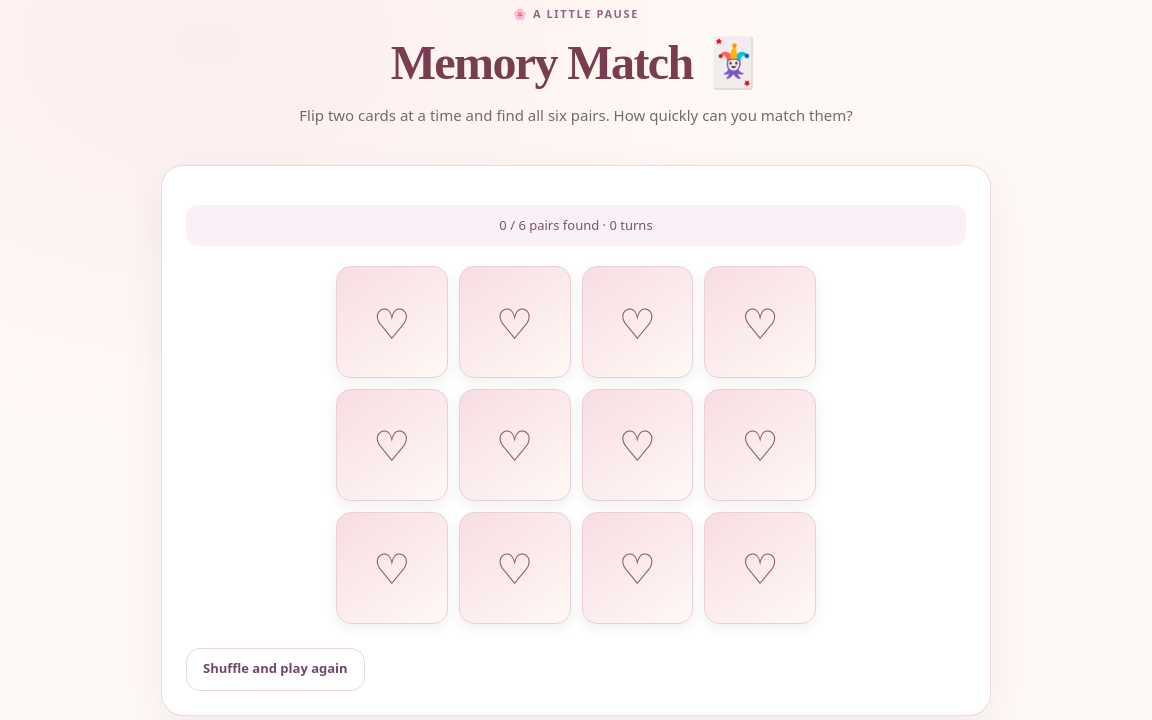
Test: the new games › counts attempts in the memory matching game
Click the cell named "Card 1: face down".
click(392, 322)  # box [336,266,448,378]
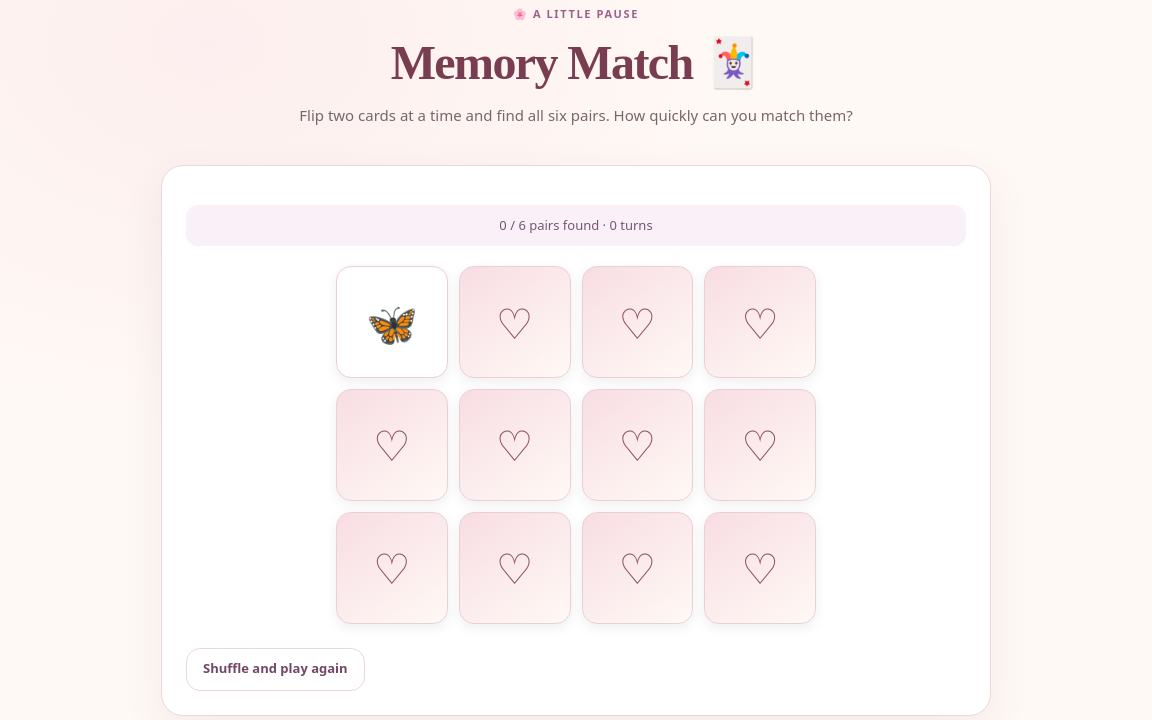
Click the cell named "Card 2: face down".
click(515, 322)  # box [459,266,571,378]
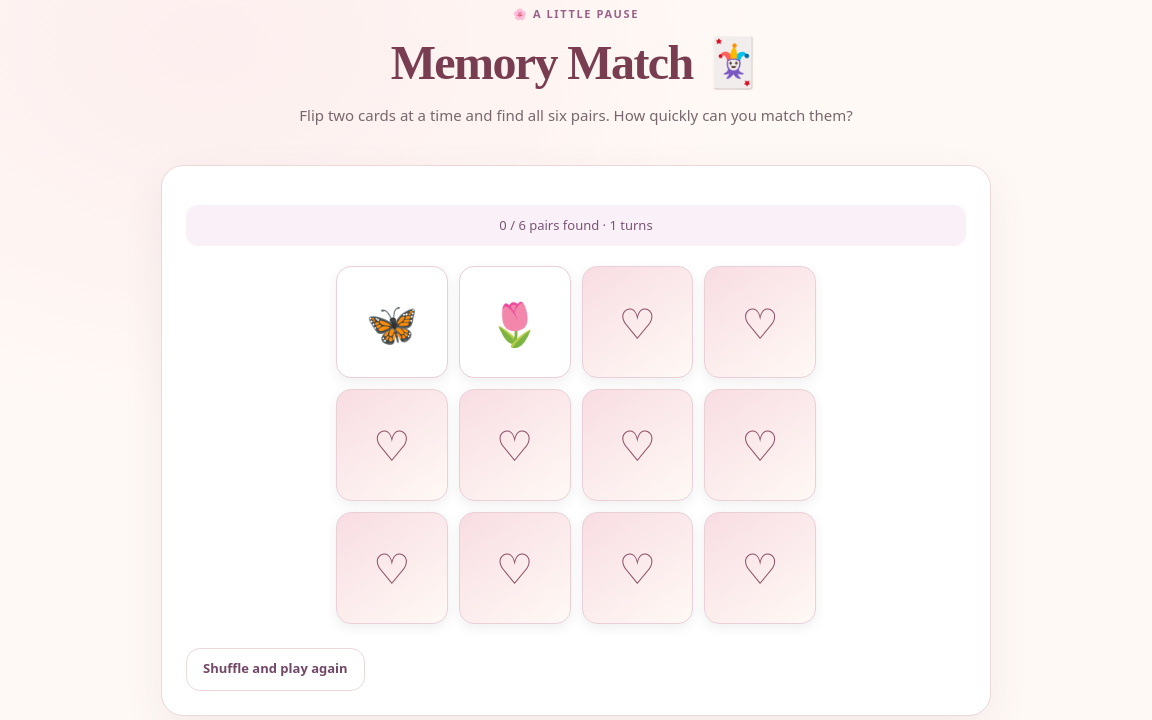
Expected: the text "0 / 6 pairs found · 1 turns" is shown, [186,205,966,246]
